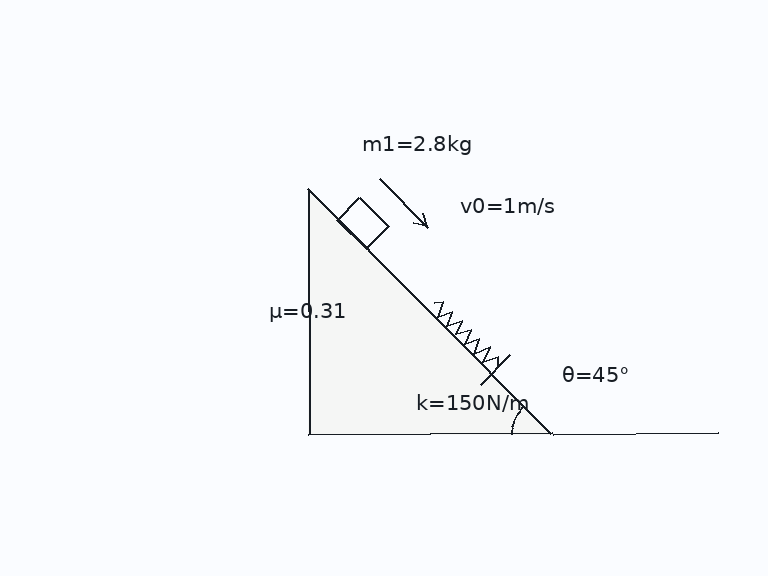block: (335, 195, 390, 250)
ramp: (306, 188, 554, 436)
spring: (432, 301, 500, 369)
